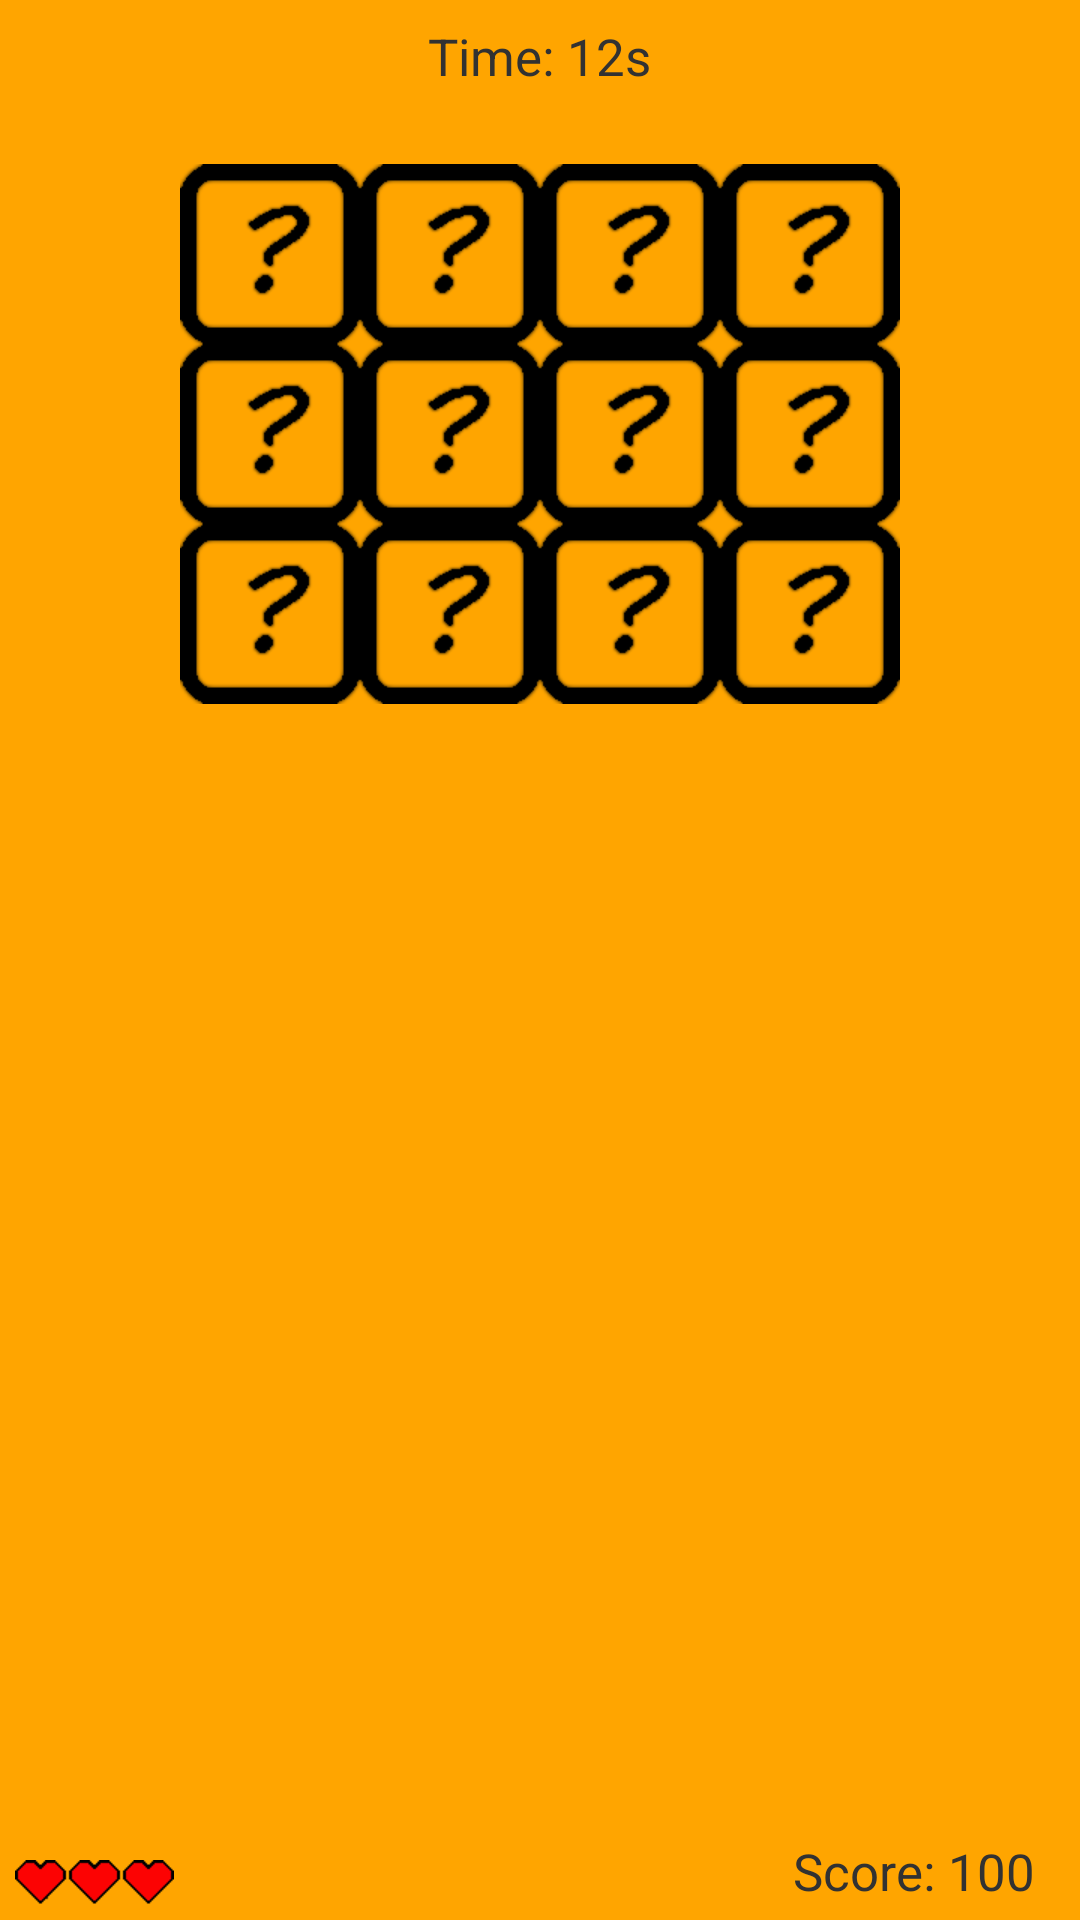

Named icons in this screenshot (1080 x 1920) and their centers, [x,y]:
heart: [94,1882]
